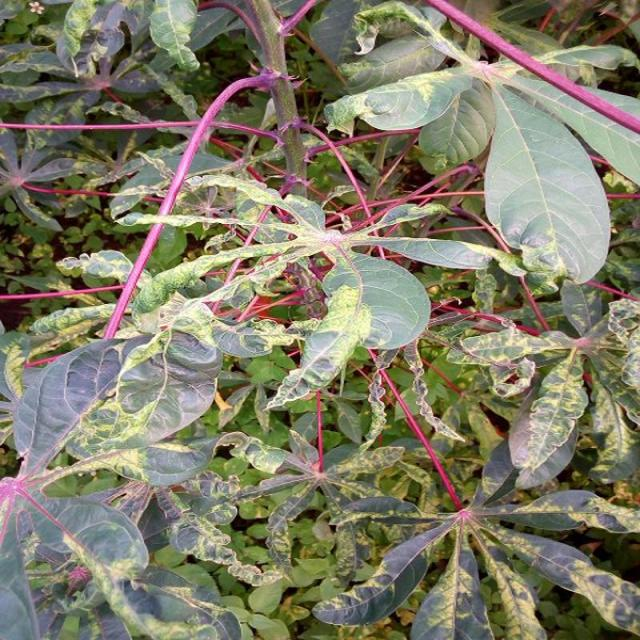cassava leaf: (0, 0, 638, 638), (482, 76, 612, 287), (320, 250, 430, 351)
